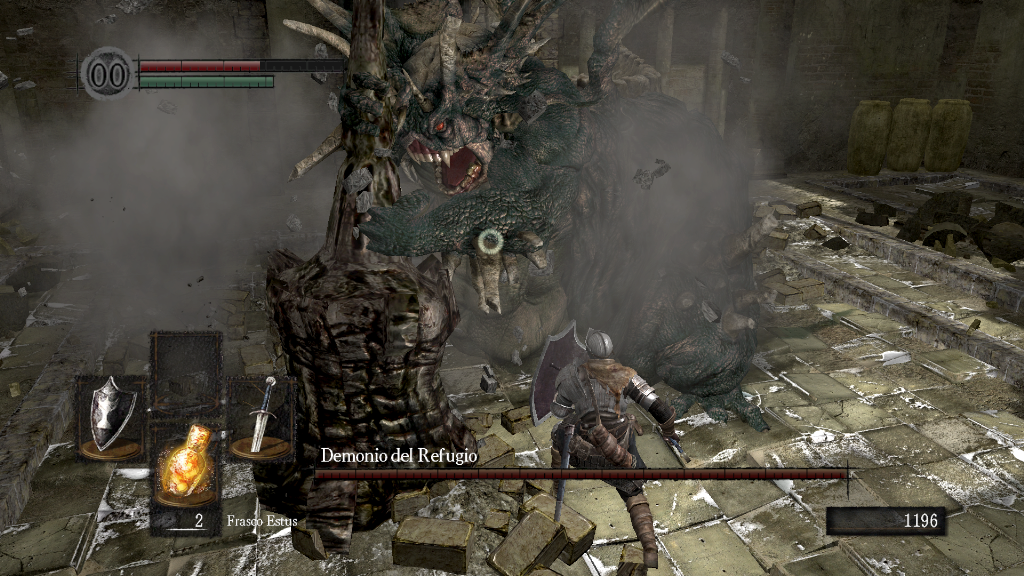asylumDemon: (245, 1, 772, 546)
bossHP: (314, 469, 847, 479)
health: (138, 58, 343, 71)
humanity: (80, 45, 136, 102)
player: (529, 320, 684, 570)
souls: (825, 506, 945, 536)
stamina: (138, 74, 274, 88)
